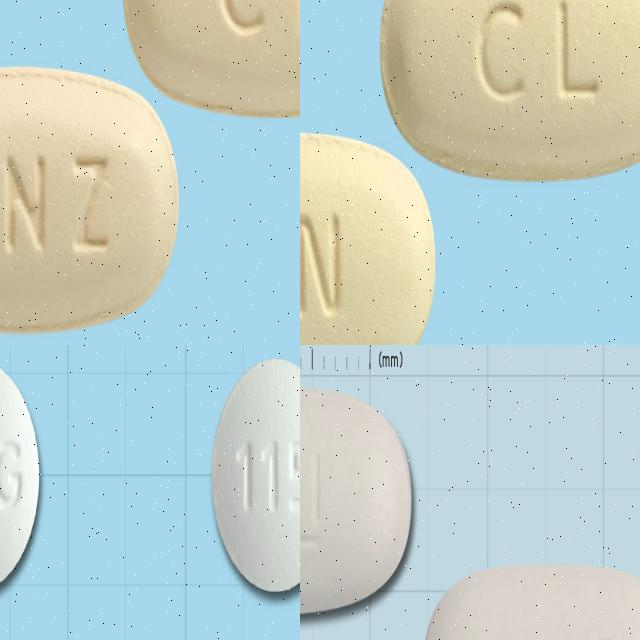Amocla Duo500mg: (300, 383, 414, 621), (420, 562, 640, 640)
Ciprocin - 259mg: (208, 346, 300, 601), (0, 354, 45, 601)
Clamacin: (377, 0, 640, 195), (300, 123, 439, 345)
Claniz: (0, 60, 186, 340), (122, 0, 300, 119)
